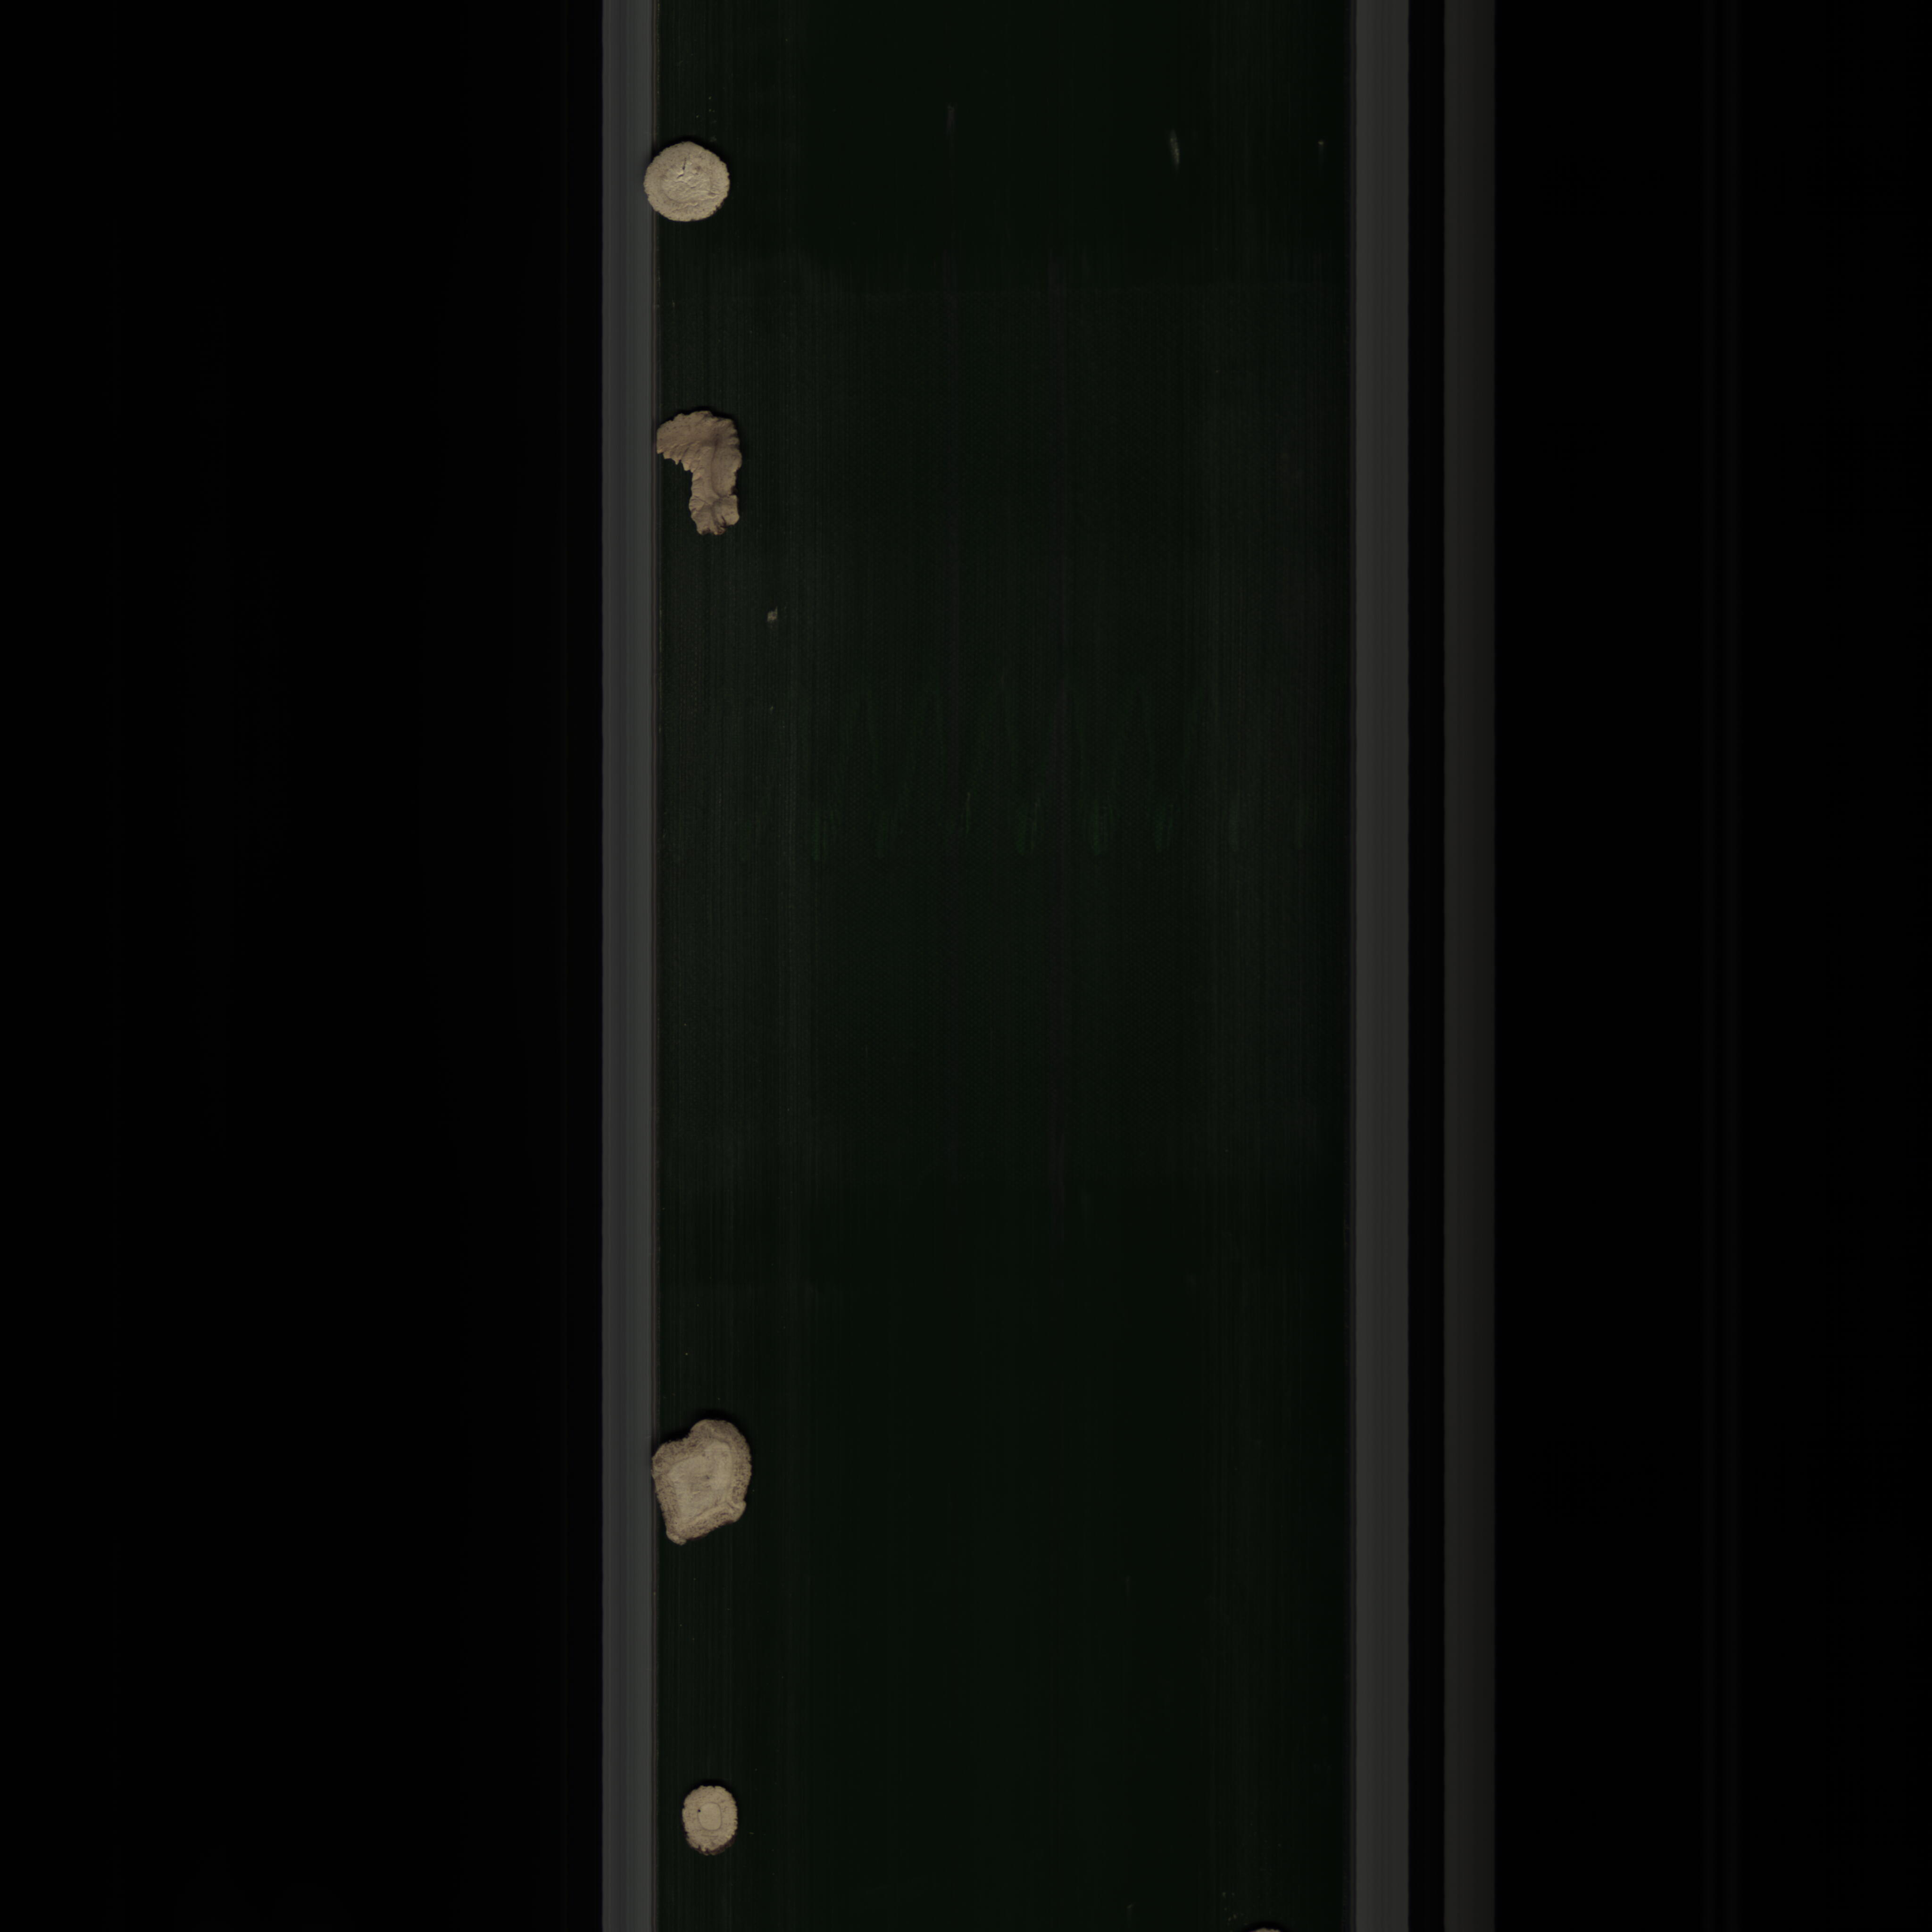distortion: (644, 1412, 754, 1550)
moldy: (646, 398, 755, 552)
